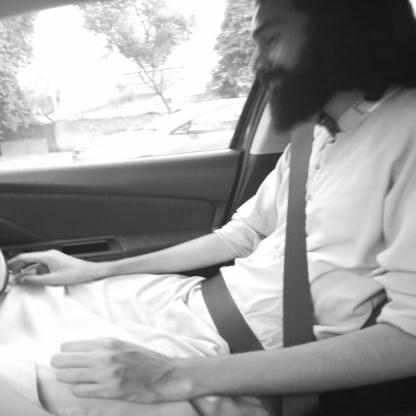seatbelt: (235, 0, 406, 262)
